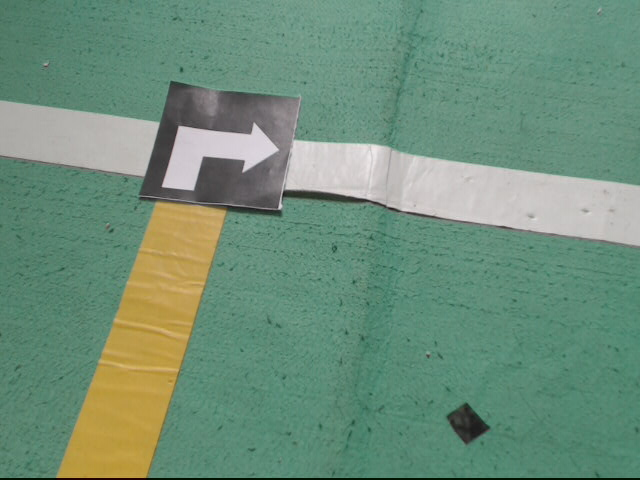right: (137, 82, 303, 211)
